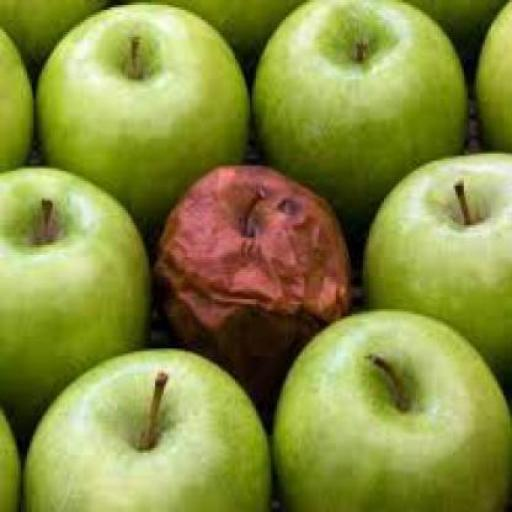biodegradable: (0, 0, 511, 511), (247, 0, 468, 223), (269, 306, 510, 510), (34, 2, 252, 220), (158, 160, 350, 396), (21, 344, 268, 510), (0, 161, 149, 430), (361, 146, 510, 391), (171, 0, 311, 80), (406, 0, 510, 82), (0, 0, 110, 75), (475, 0, 510, 151), (0, 17, 34, 171), (0, 405, 20, 511)
